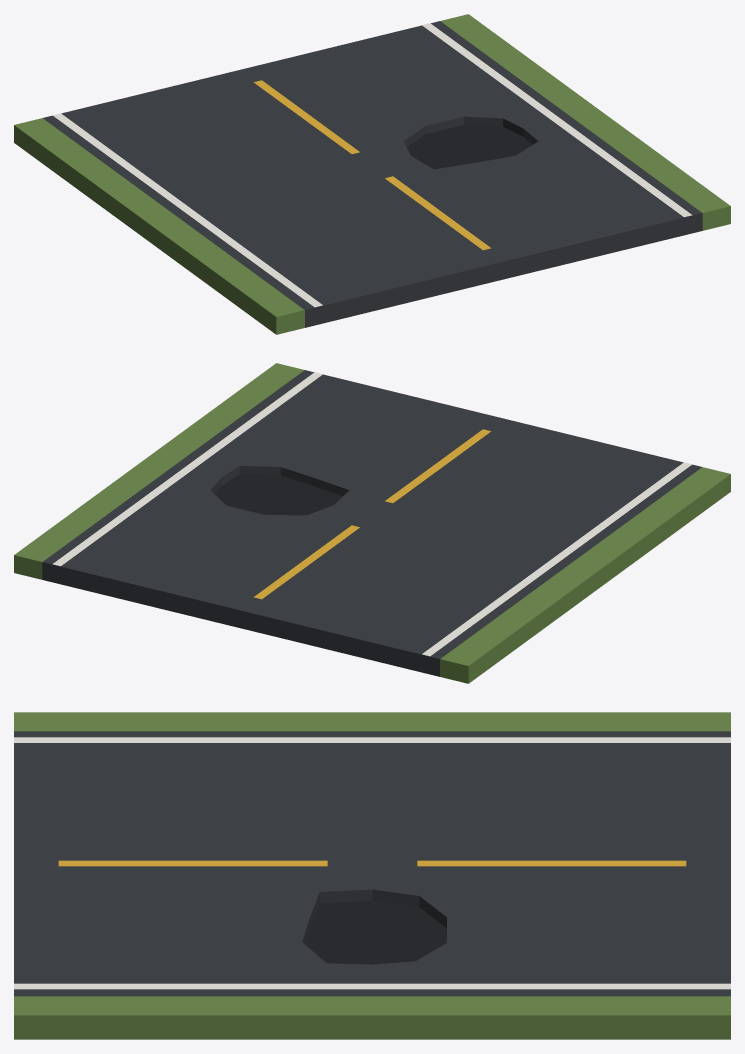
The model's file is Road_2Lane_NoSidewalk_Straight_8m_Pothole_Large.glb.
The picture shows the model from 3 angles, top to bottom: view 1: azimuth 30°, elevation 25°; view 2: azimuth 150°, elevation 25°; view 3: azimuth 270°, elevation 25°; orthographic projection. The views are drawn at different scales.
Parts seen in each view (by area): view 1: Road_2Lane_NoSidewalk_Straight_8m_Pothole_Large_Asphalt, Road_2Lane_NoSidewalk_Straight_8m_Pothole_Large_Grass-edge, Road_2Lane_NoSidewalk_Straight_8m_Pothole_Large_PaintWhite, Road_2Lane_NoSidewalk_Straight_8m_Pothole_Large_Rubber, Road_2Lane_NoSidewalk_Straight_8m_Pothole_Large_PaintYellow; view 2: Road_2Lane_NoSidewalk_Straight_8m_Pothole_Large_Asphalt, Road_2Lane_NoSidewalk_Straight_8m_Pothole_Large_Grass-edge, Road_2Lane_NoSidewalk_Straight_8m_Pothole_Large_PaintWhite, Road_2Lane_NoSidewalk_Straight_8m_Pothole_Large_Rubber, Road_2Lane_NoSidewalk_Straight_8m_Pothole_Large_PaintYellow; view 3: Road_2Lane_NoSidewalk_Straight_8m_Pothole_Large_Asphalt, Road_2Lane_NoSidewalk_Straight_8m_Pothole_Large_Grass-edge, Road_2Lane_NoSidewalk_Straight_8m_Pothole_Large_PaintWhite, Road_2Lane_NoSidewalk_Straight_8m_Pothole_Large_Rubber, Road_2Lane_NoSidewalk_Straight_8m_Pothole_Large_PaintYellow.
Boxes of the visible parts, <box> form: Road_2Lane_NoSidewalk_Straight_8m_Pothole_Large_Asphalt: <box>43,21,702,327</box>; Road_2Lane_NoSidewalk_Straight_8m_Pothole_Large_Grass-edge: <box>14,14,730,334</box>; Road_2Lane_NoSidewalk_Straight_8m_Pothole_Large_PaintWhite: <box>53,23,692,307</box>; Road_2Lane_NoSidewalk_Straight_8m_Pothole_Large_Rubber: <box>407,125,532,169</box>; Road_2Lane_NoSidewalk_Straight_8m_Pothole_Large_PaintYellow: <box>254,80,490,250</box>; Road_2Lane_NoSidewalk_Straight_8m_Pothole_Large_Asphalt: <box>42,370,701,676</box>; Road_2Lane_NoSidewalk_Straight_8m_Pothole_Large_Grass-edge: <box>14,363,730,683</box>; Road_2Lane_NoSidewalk_Straight_8m_Pothole_Large_PaintWhite: <box>52,372,691,656</box>; Road_2Lane_NoSidewalk_Straight_8m_Pothole_Large_Rubber: <box>214,474,342,515</box>; Road_2Lane_NoSidewalk_Straight_8m_Pothole_Large_PaintYellow: <box>254,429,490,599</box>; Road_2Lane_NoSidewalk_Straight_8m_Pothole_Large_Asphalt: <box>14,731,730,996</box>; Road_2Lane_NoSidewalk_Straight_8m_Pothole_Large_Grass-edge: <box>14,712,730,1039</box>; Road_2Lane_NoSidewalk_Straight_8m_Pothole_Large_PaintWhite: <box>14,737,730,989</box>; Road_2Lane_NoSidewalk_Straight_8m_Pothole_Large_Rubber: <box>305,901,446,964</box>; Road_2Lane_NoSidewalk_Straight_8m_Pothole_Large_PaintYellow: <box>58,860,686,866</box>.
Bounding box in the file's own units: 8 × 0.305 × 8.
